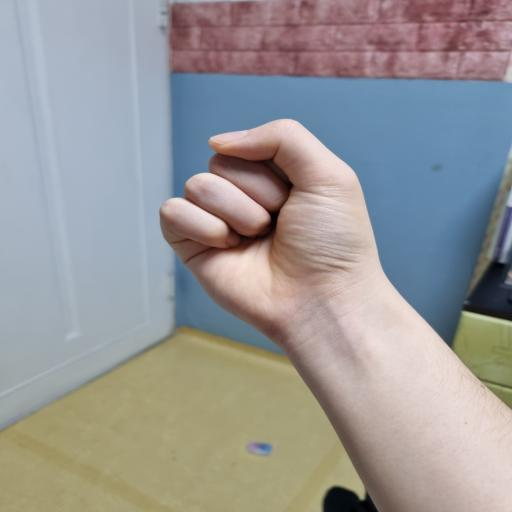Rock: (160, 118, 382, 333)
